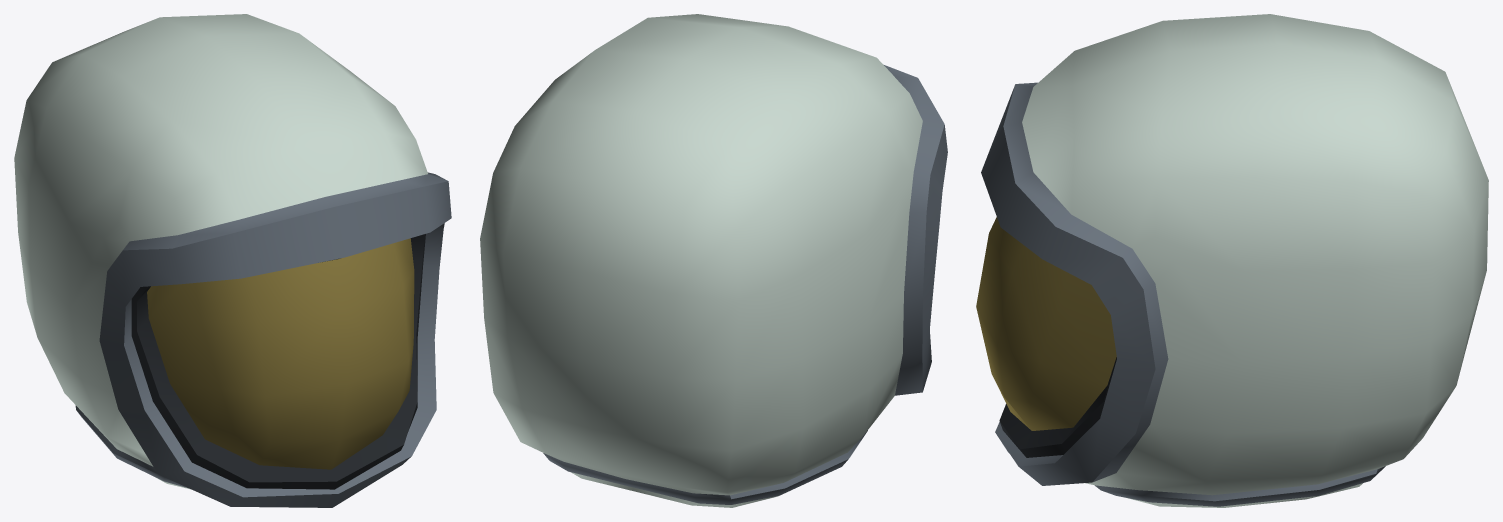
File: capacete.fbx
The picture shows the model from 3 angles, left to right: view 1: azimuth 30°, elevation 25°; view 2: azimuth 150°, elevation 25°; view 3: azimuth 270°, elevation 25°; orthographic projection. The views are drawn at different scales.
Parts seen in each view (by area): view 1: Capacete; view 2: Capacete; view 3: Capacete.
Boxes of the visible parts, box(x1,y1,x2,y2) form: Capacete: box(14, 14, 451, 507); Capacete: box(480, 14, 947, 507); Capacete: box(976, 14, 1488, 507).
Bounding box in the file's own units: 47.68 × 54.65 × 59.81.
